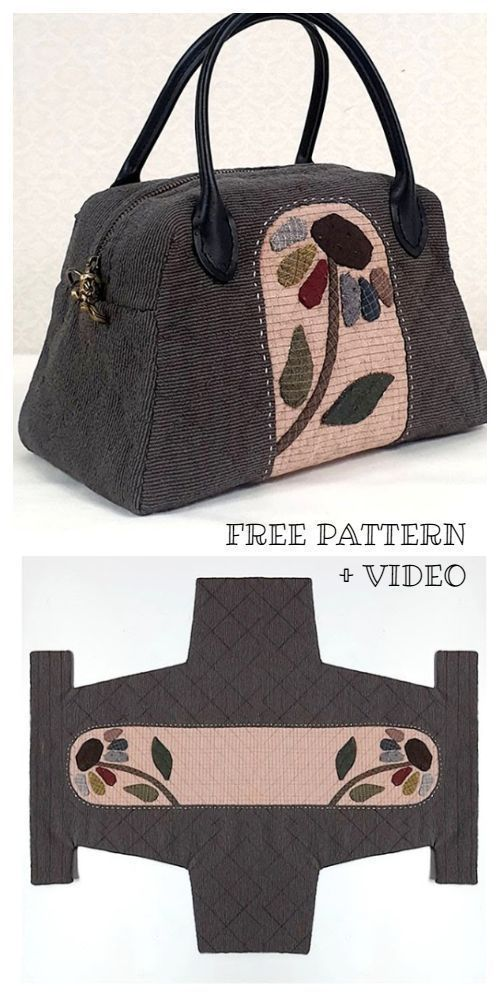cuero: (112, 13, 428, 285)
